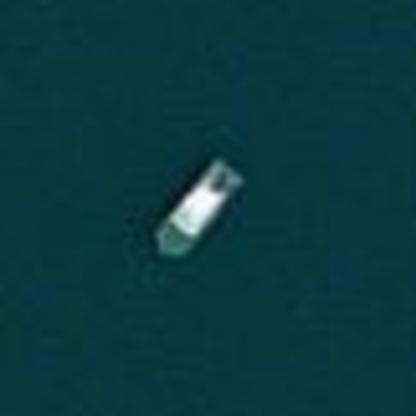ship: (146, 145, 254, 269)
